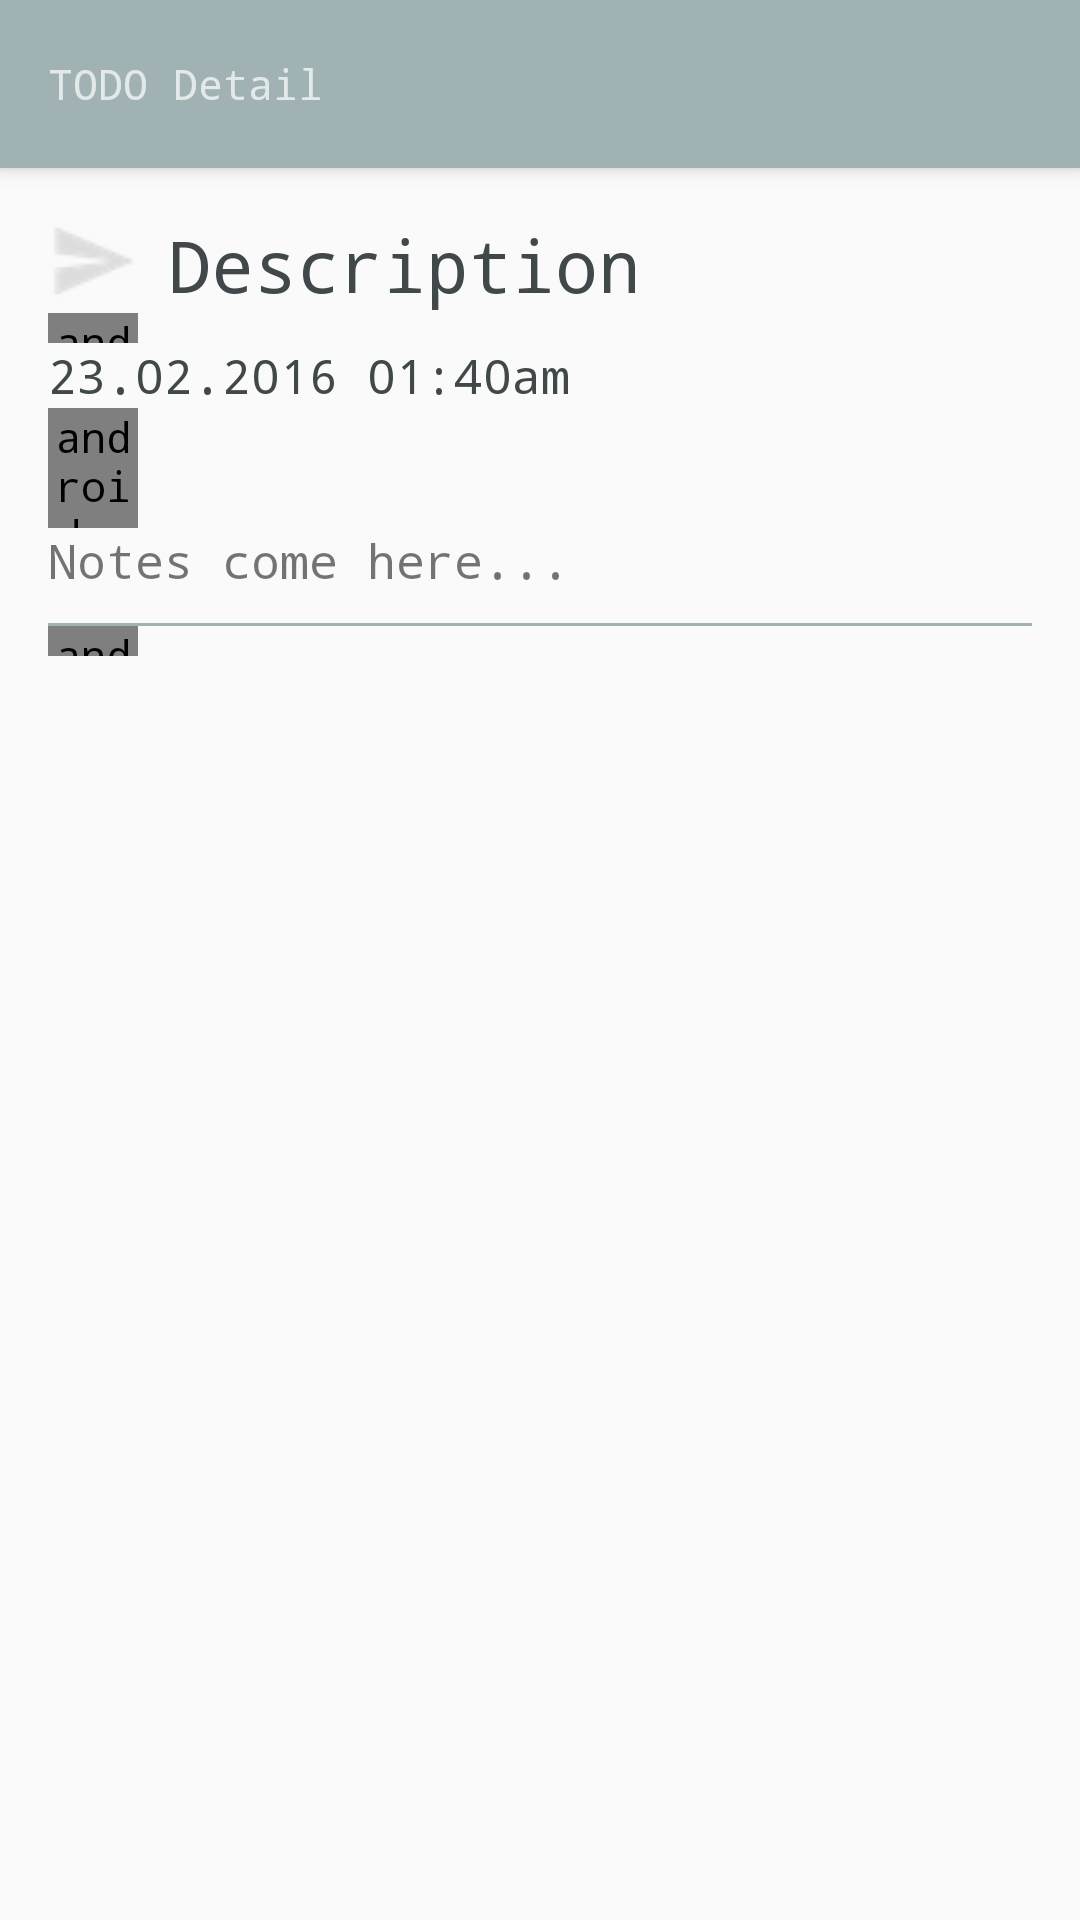

Screen size 1080 × 1920. Icon name, then its center in pixels as point (x, y):
delegate todo: point (93, 261)
